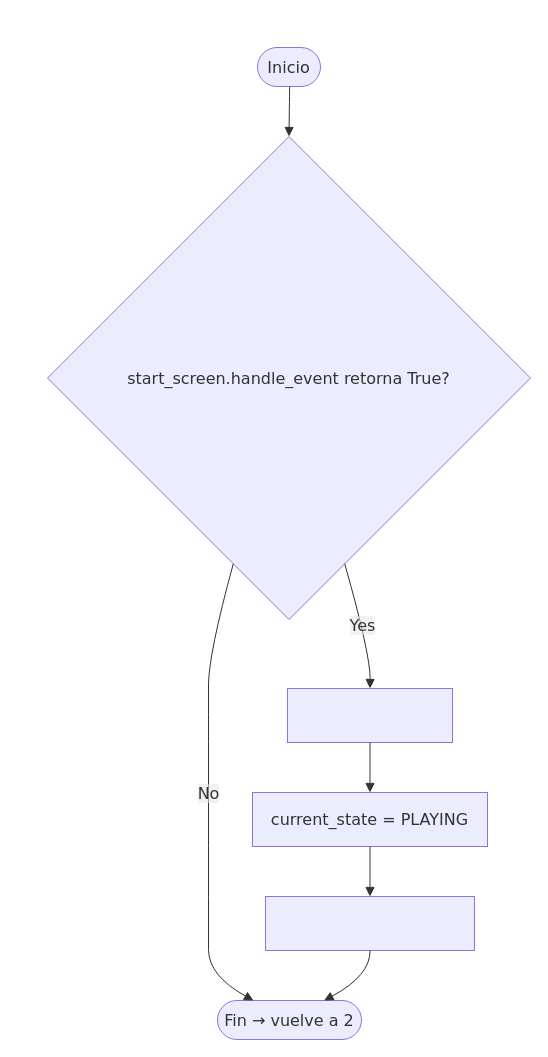
Some shapes in this 548 by 1057 pixel diagram are drawn without their labels. The shapes that lost their labels are listed below. From the top down, each one's centre as x and y in pixels, then its label:
pixel 369 715: clear_message
pixel 369 923: game = Game screen
